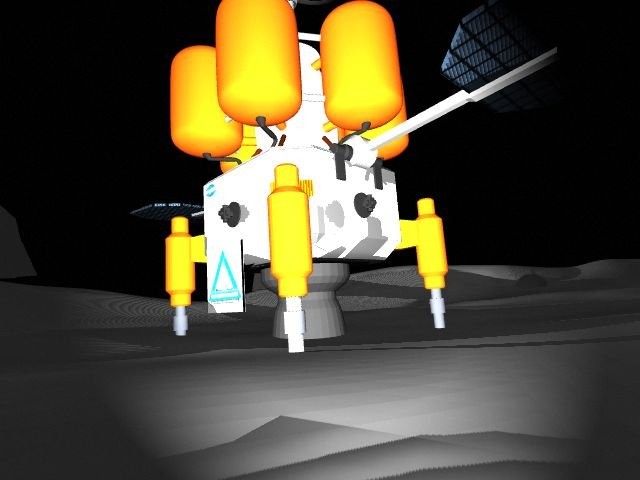basemarker: (207, 250, 243, 305)
